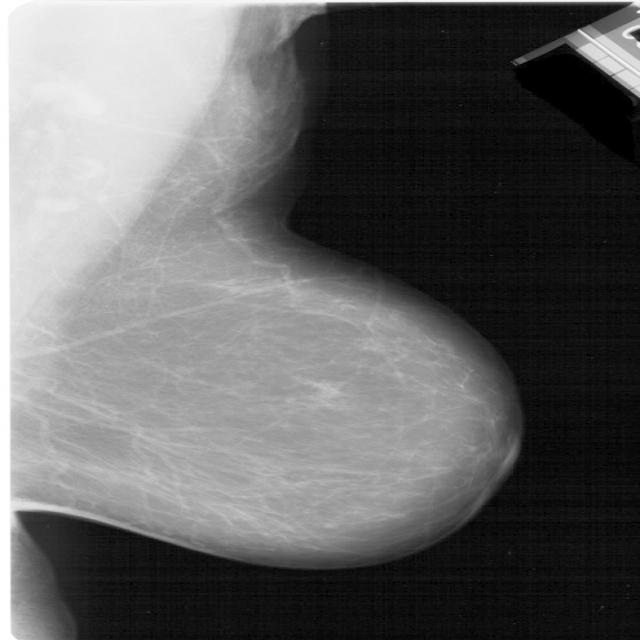tumour: (309, 380, 347, 400)
